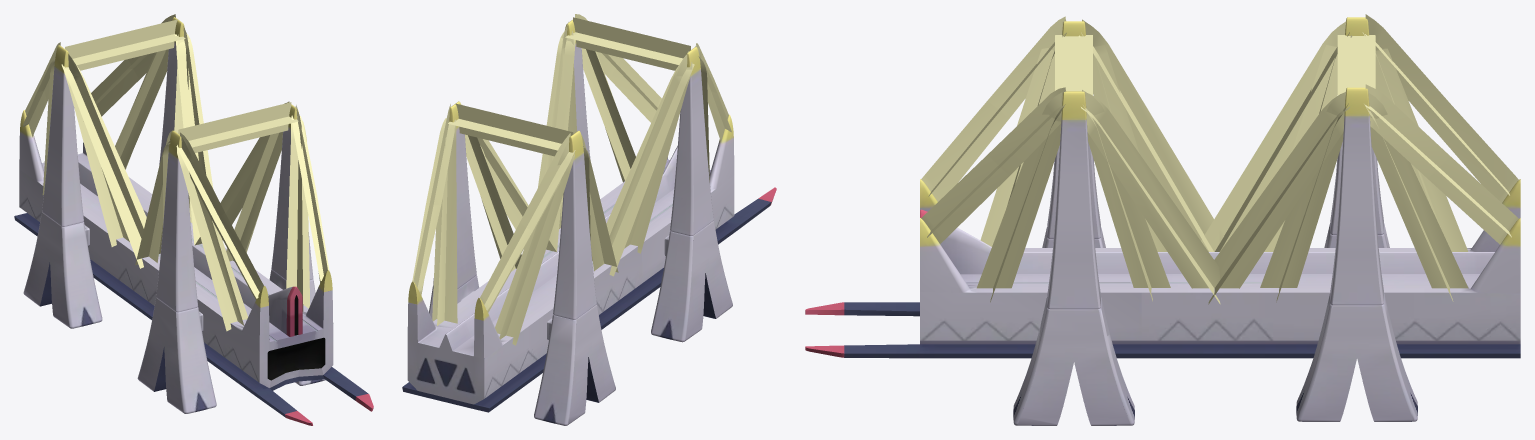
The model's file is ArchaludonCharging.glb.
3 renders of one model, left to right at view 1: azimuth 30°, elevation 25°; view 2: azimuth 150°, elevation 25°; view 3: azimuth 270°, elevation 25°, orthographic. The views are drawn at different scales.
Parts seen in each view (by area): view 1: pm1132_00_00_right_hand_mesh_shape, pm1132_00_00_effect_a_mesh_shape; view 2: pm1132_00_00_right_hand_mesh_shape, pm1132_00_00_effect_a_mesh_shape; view 3: pm1132_00_00_right_hand_mesh_shape, pm1132_00_00_effect_a_mesh_shape.
Part boxes in pixels (x1,y1,x2,y2): pm1132_00_00_right_hand_mesh_shape: [14, 17, 373, 425]; pm1132_00_00_effect_a_mesh_shape: [23, 14, 329, 331]; pm1132_00_00_right_hand_mesh_shape: [402, 20, 776, 425]; pm1132_00_00_effect_a_mesh_shape: [412, 14, 731, 345]; pm1132_00_00_right_hand_mesh_shape: [805, 17, 1520, 425]; pm1132_00_00_effect_a_mesh_shape: [921, 14, 1518, 304].
Bounding box in the file's own units: 1.04 × 1.77 × 3.45.
3 materials, 2 textured.
